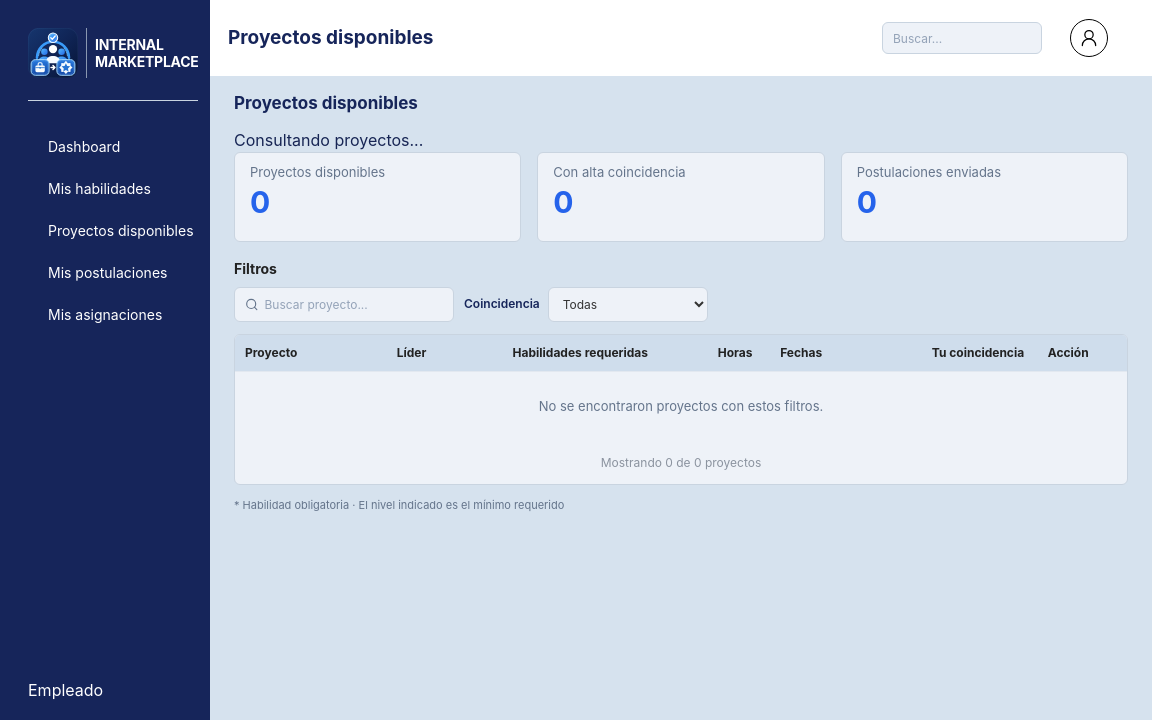
Test: Filtros estandarizados de proyectos disponibles del empleado › ofrece Todas y Alta coincidencia sin depender del antiguo botón de embudo
Expected: the label named "Filtrar proyectos por coincidencia" reads "Coincidencia", x1=464 y1=296 x2=540 y2=311
Step 1. Select "Alta coincidencia" in the dropdown named "Filtrar proyectos por coincidencia" → x=628, y=304, box x1=548 y1=287 x2=708 y2=322
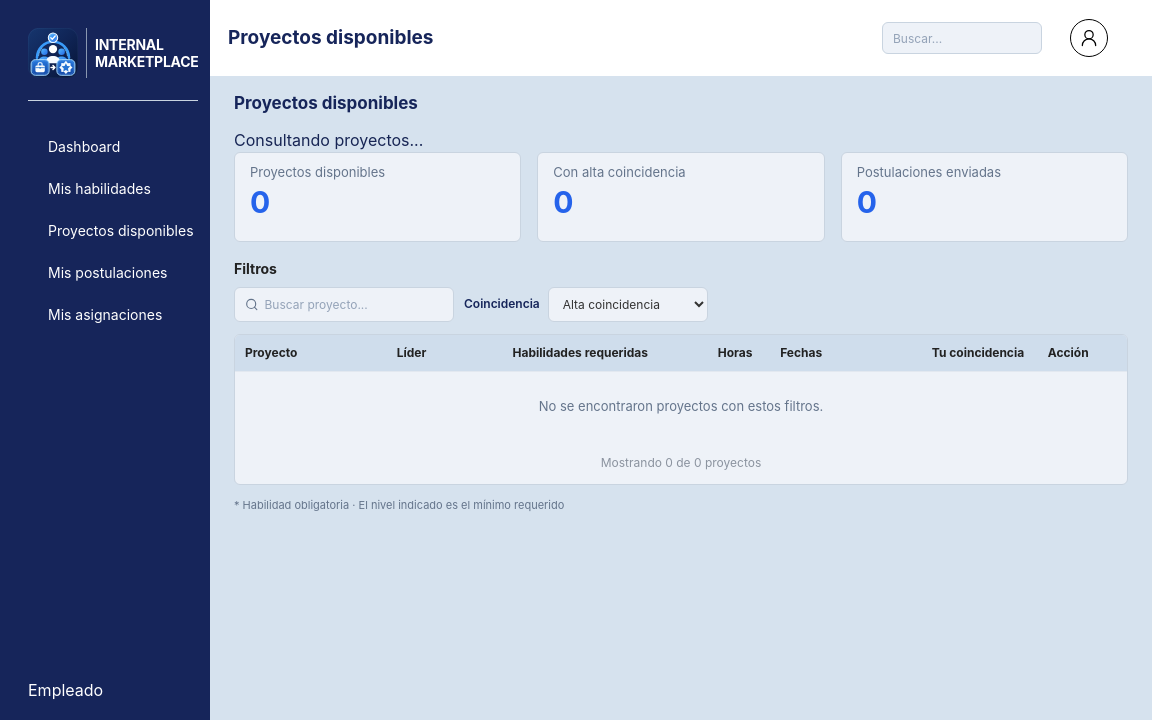
Step 2. Select "Todas" in the dropdown named "Filtrar proyectos por coincidencia" → x=628, y=304, box x1=548 y1=287 x2=708 y2=322
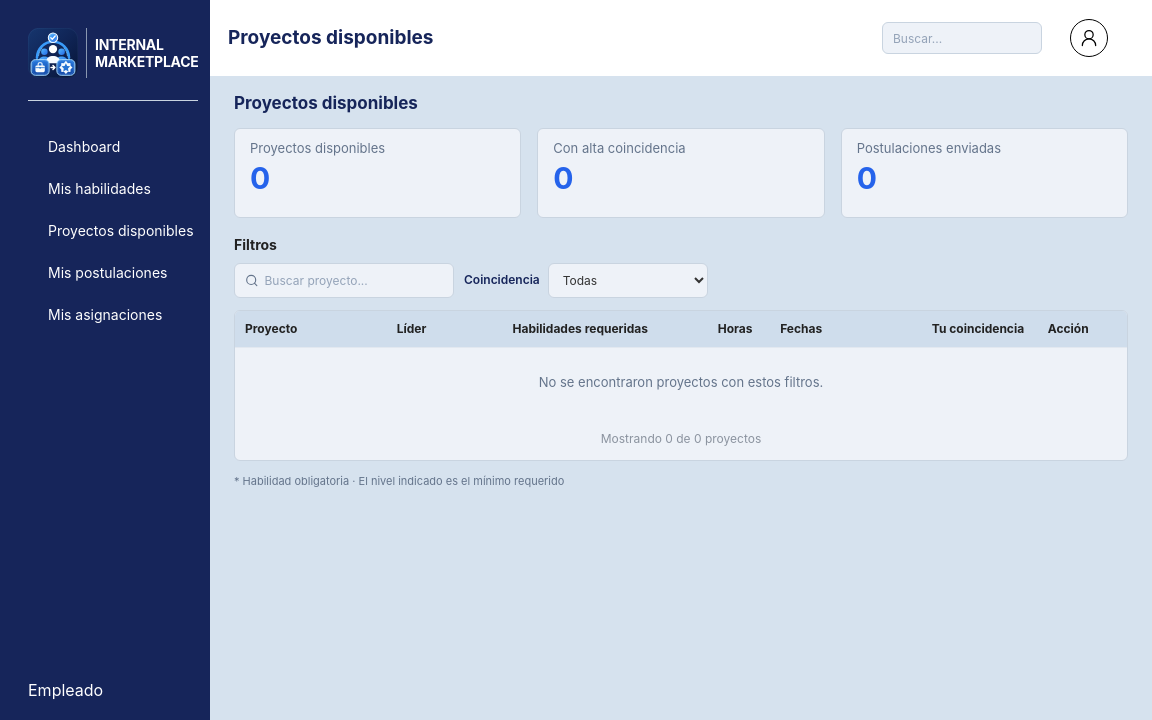
Now the text "Consultando proyectos..." is gone
